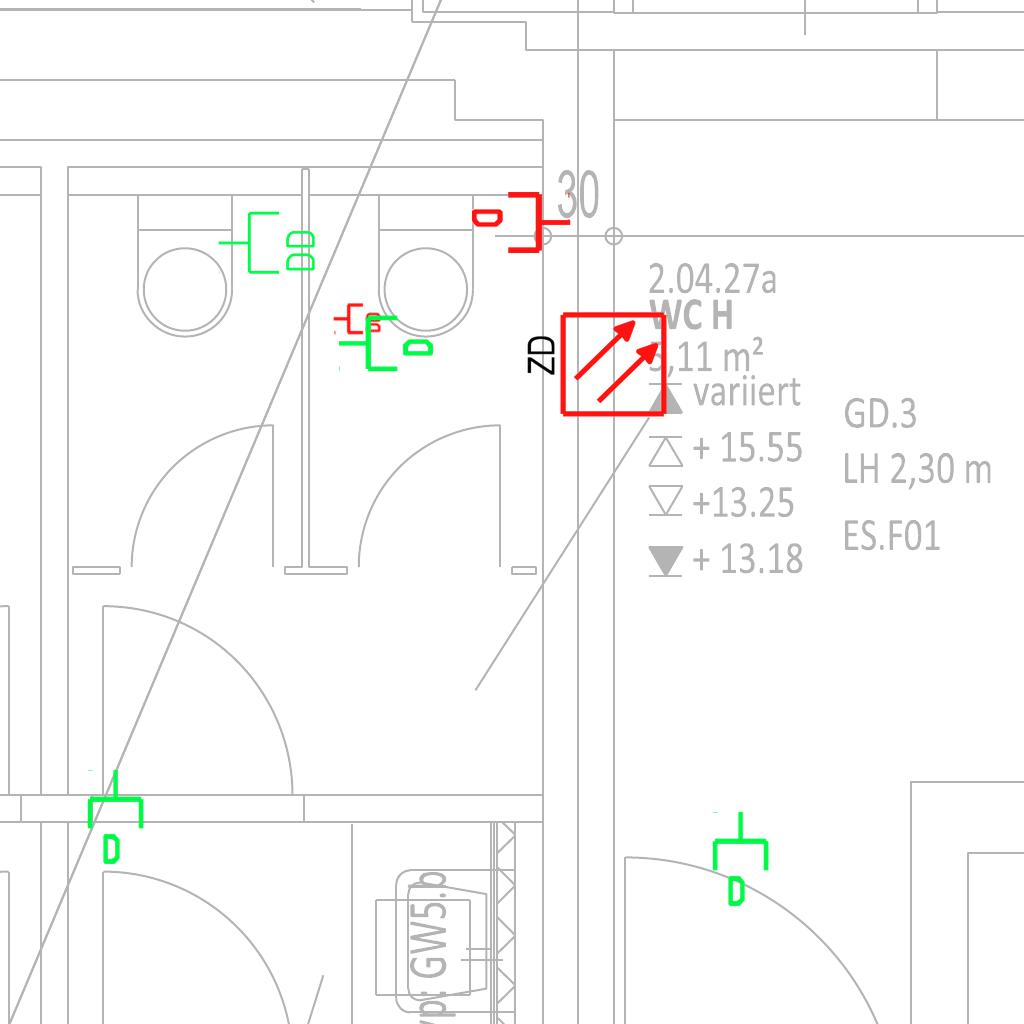Datenanschluss_einfach: (708, 809, 777, 909), (472, 188, 572, 257), (83, 767, 152, 867), (336, 307, 436, 376)
Datenanschluss_zweifach: (216, 209, 319, 278), (332, 301, 383, 335)
ZD_Melder_in_Zwischendecke_mit_Revisionsoeffnung_mind_40_x_40_cm: (520, 309, 669, 423)
